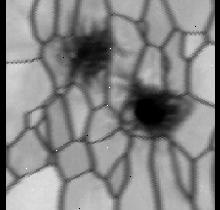good_void: (111, 71, 195, 152), (50, 16, 123, 98)
